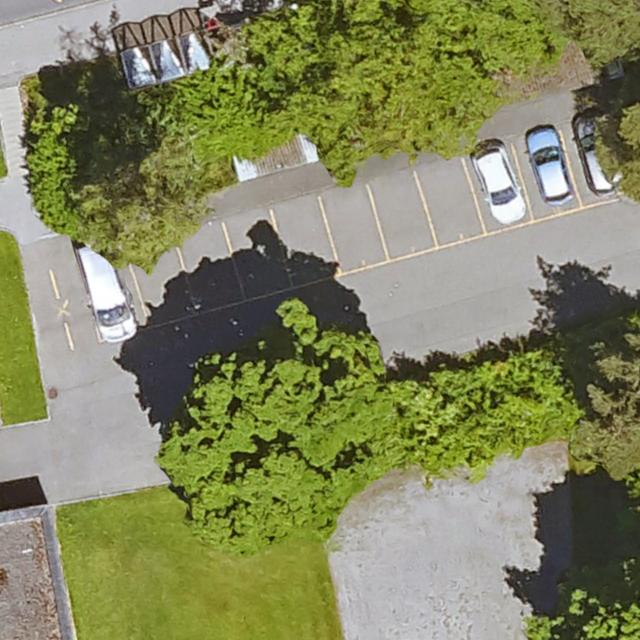tree: (162, 324, 376, 540), (395, 374, 555, 476), (76, 136, 207, 256), (178, 74, 273, 157), (585, 349, 640, 482), (615, 103, 640, 200)
